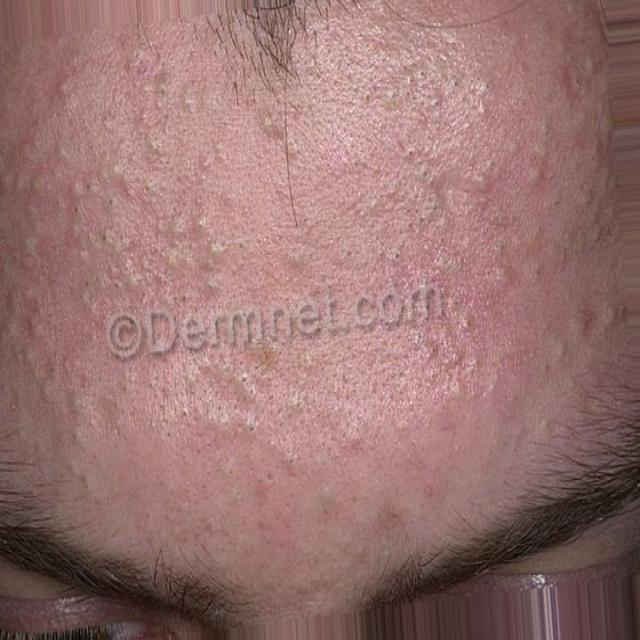acne: (412, 158, 575, 228), (2, 300, 76, 424), (418, 330, 520, 416), (164, 188, 226, 308), (193, 387, 290, 459), (48, 64, 107, 152)
